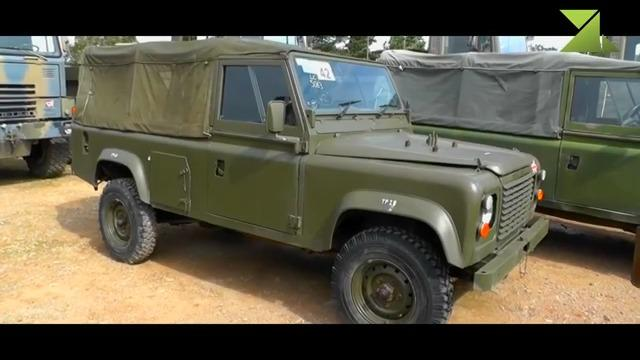MIL_HMMWV: (72, 44, 552, 324), (377, 48, 640, 244), (0, 35, 74, 178)
